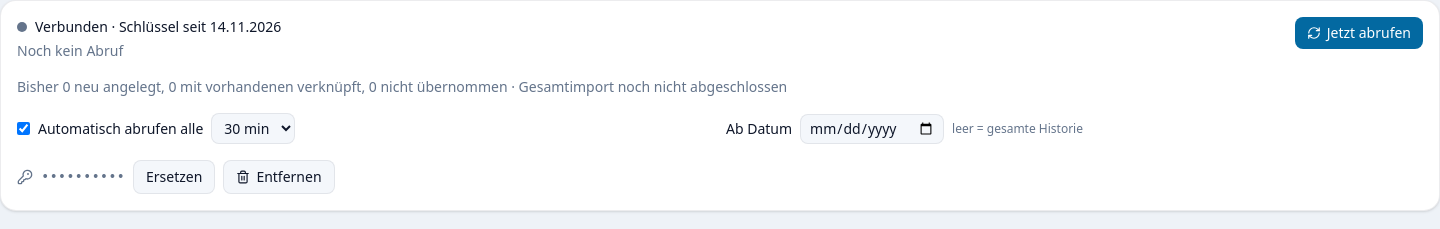
Test: Einstellungen → Garmin Connect › entfernt den Schlüssel erst nach Rückfrage
What coordinates should you click on to do the following:
click the button "Entfernen"
I would click on:
 (279, 177)
Its box is [223,160,335,194].
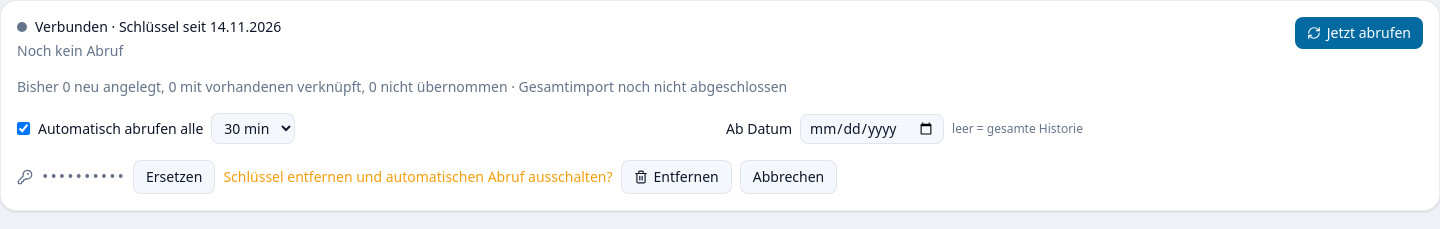
Result: the text "Schlüssel entfernen und automatischen Abruf ausschalten?" is shown at [223,167,613,187]
What coordinates should you click on to do the following:
click the button "Entfernen"
I would click on:
 (676, 177)
Its box is [620,160,732,194].
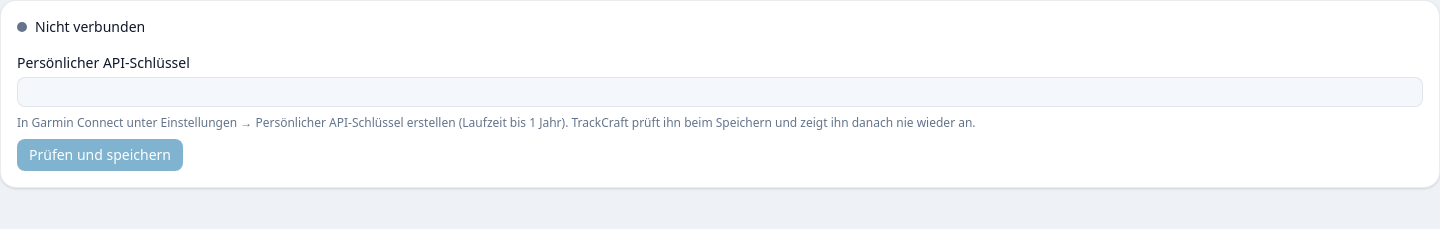
Result: the text "Nicht verbunden" is shown at [17,17,145,37]
